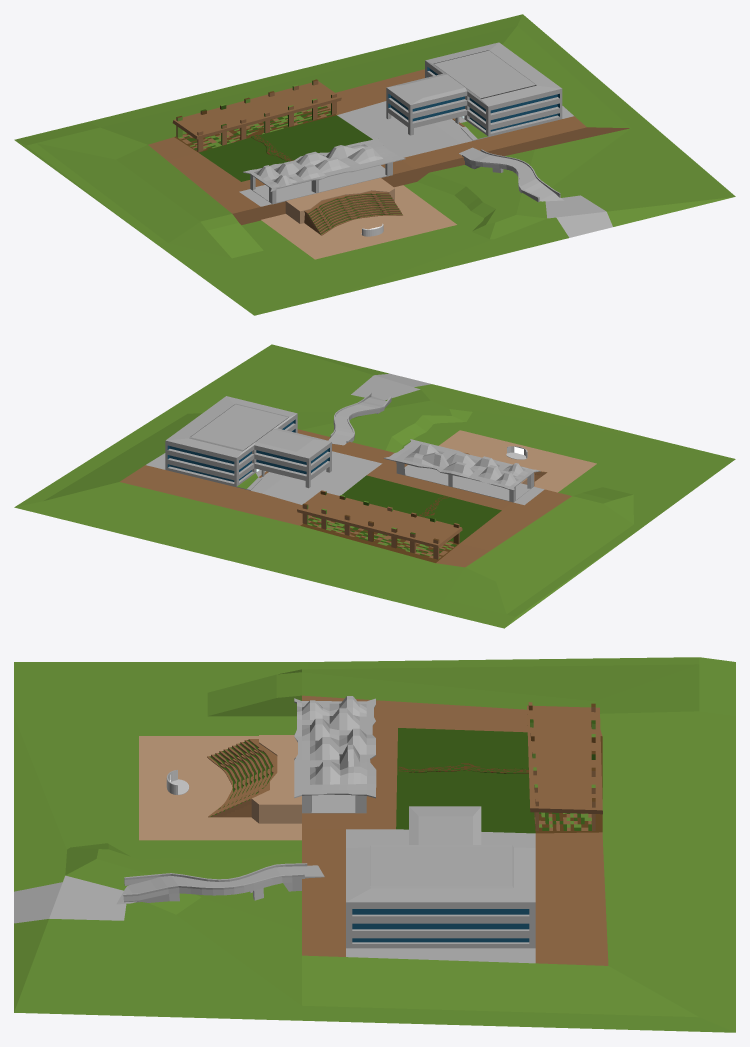
The model's file is company-01.gltf.
The picture shows the model from 3 angles, top to bottom: view 1: azimuth 30°, elevation 25°; view 2: azimuth 150°, elevation 25°; view 3: azimuth 270°, elevation 25°; orthographic projection. The views are drawn at different scales.
Visible parts, largest first — view 1: base, building, amphitheatre, walkway, cafeteria, bridge; view 2: base, building, walkway, cafeteria, amphitheatre, bridge; view 3: base, building, amphitheatre, walkway, cafeteria, bridge, walkway-2.
Part boxes in pixels (left/top/right/bottom): base: left=14, top=14, right=735, bottom=315; building: left=386, top=42, right=562, bottom=140; amphitheatre: left=261, top=177, right=456, bottom=259; walkway: left=172, top=79, right=341, bottom=152; cafeteria: left=243, top=138, right=405, bottom=204; bridge: left=459, top=147, right=563, bottom=202; base: left=14, top=344, right=735, bottom=628; building: left=165, top=396, right=331, bottom=490; walkway: left=297, top=490, right=462, bottom=559; cafeteria: left=383, top=439, right=540, bottom=502; amphitheatre: left=439, top=430, right=596, bottom=492; bridge: left=328, top=392, right=391, bottom=445; base: left=14, top=657, right=735, bottom=1032; building: left=346, top=806, right=535, bottom=948; amphitheatre: left=139, top=735, right=301, bottom=840; walkway: left=527, top=702, right=602, bottom=830; cafeteria: left=294, top=696, right=376, bottom=813; bridge: left=116, top=863, right=324, bottom=904; walkway-2: left=398, top=763, right=528, bottom=773.
Size of the model in its own units: 302 by 26.72 by 247.
Materials: 3 (1 with a texture image).
